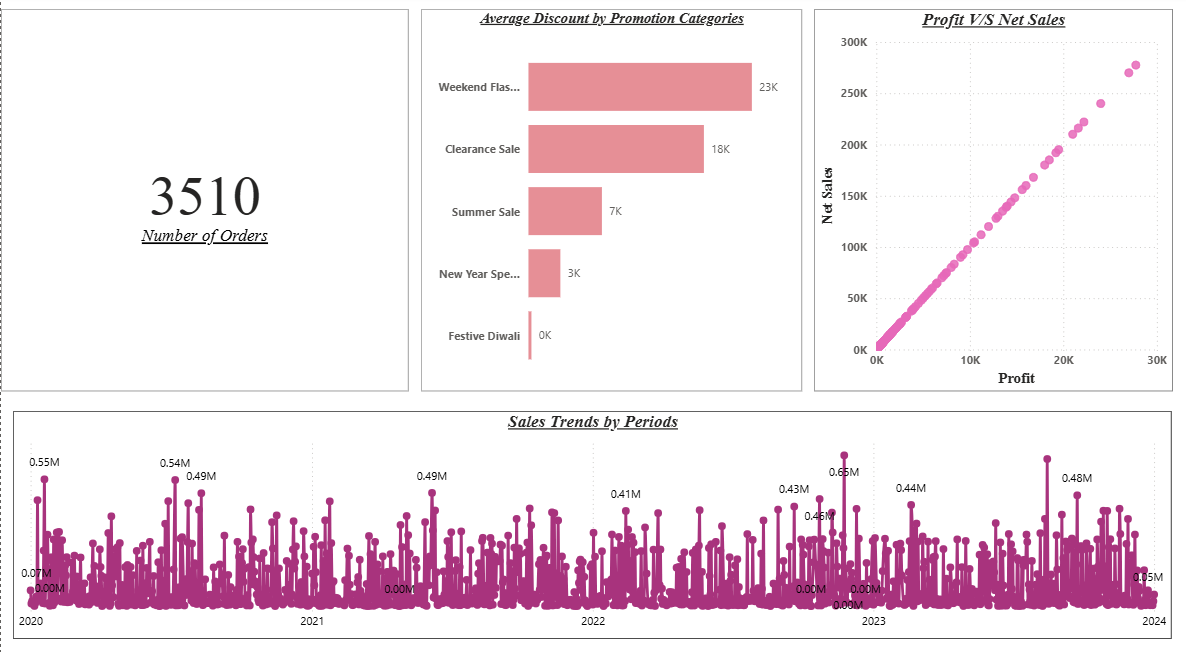

The dashboard page shown, as its layout file describes it:
{"tool":"powerbi","page":{"name":"Overview","canvas":[1280,720],"ordinal":0},"visuals":[{"type":"lineChart","title":"Sales Trends by Periods","fields":{"Y":["Sum(Fact Table.Net Sales )"],"Category":["Fact Table.Date (dd/mm/yyyy).Variation.Date Hierarchy.Year"]},"box":[13.6,450.8,1250.8,245.8],"z":0},{"type":"scatterChart","title":"Profit V/S Net Sales ","fields":{"X":["Fact Table.Profit"],"Y":["Fact Table.Net Sales "]},"box":[877.4,16.1,387.1,412.9],"z":1000},{"type":"barChart","title":"Average Discount by Promotion Categories","fields":{"Y":["Avg(Fact Table.Discount)"],"Category":["Dim Promotion.Promotion Name"]},"box":[453.2,16.1,411.3,412.9],"z":2000},{"type":"card","fields":{"Values":["Count(Fact Table.Order ID)"]},"box":[0,16.1,440.3,412.9],"z":3000}]}

Visuals, with their boxes in screenshot pixels (x1, y1, x2, y2), scaled from the page's 1280x720 canvas onto the 1186x652 screenshot:
"Sales Trends by Periods" lineChart: <bbox>13, 408, 1172, 631</bbox>
"Profit V/S Net Sales " scatterChart: <bbox>813, 15, 1172, 388</bbox>
"Average Discount by Promotion Categories" barChart: <bbox>420, 15, 801, 388</bbox>
card - Count(Fact Table.Order ID): <bbox>0, 15, 408, 388</bbox>
